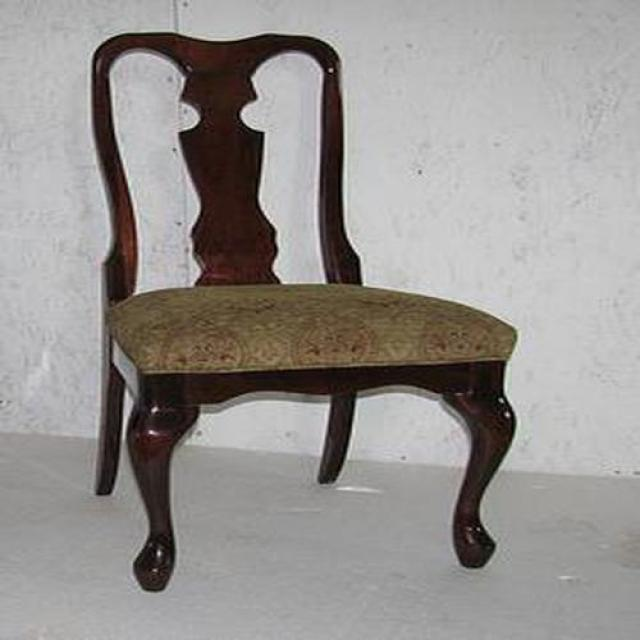chair: (90, 32, 518, 594)
